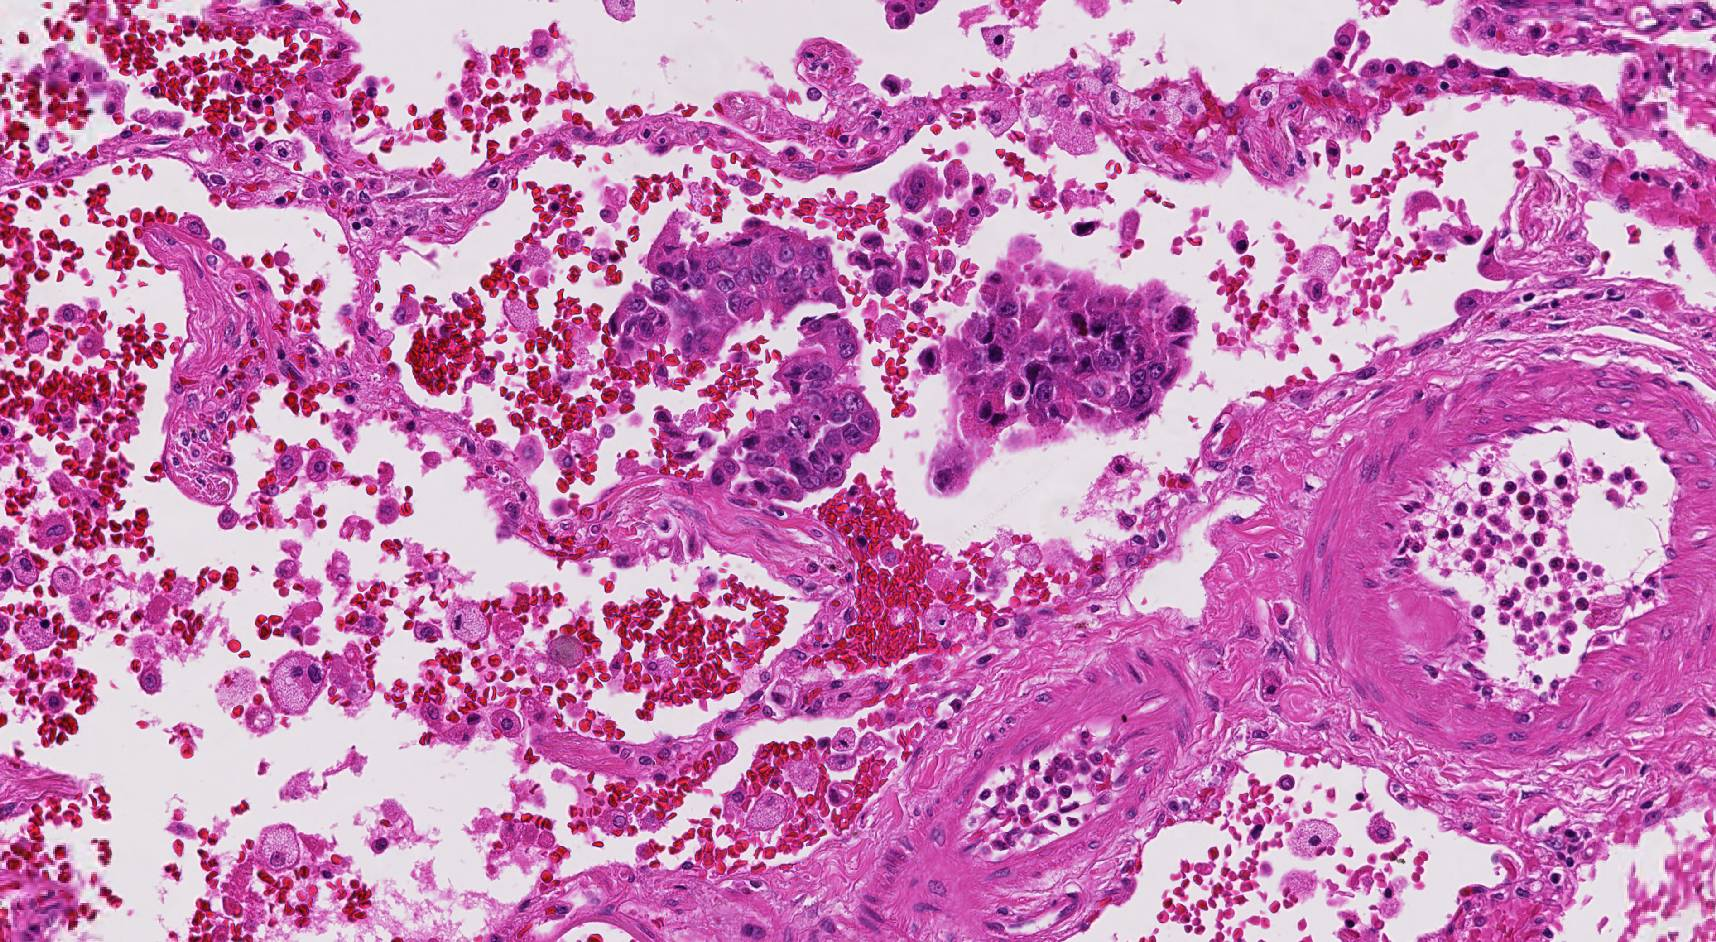stas: (947, 259, 1197, 447), (611, 216, 846, 365), (710, 316, 880, 504)
